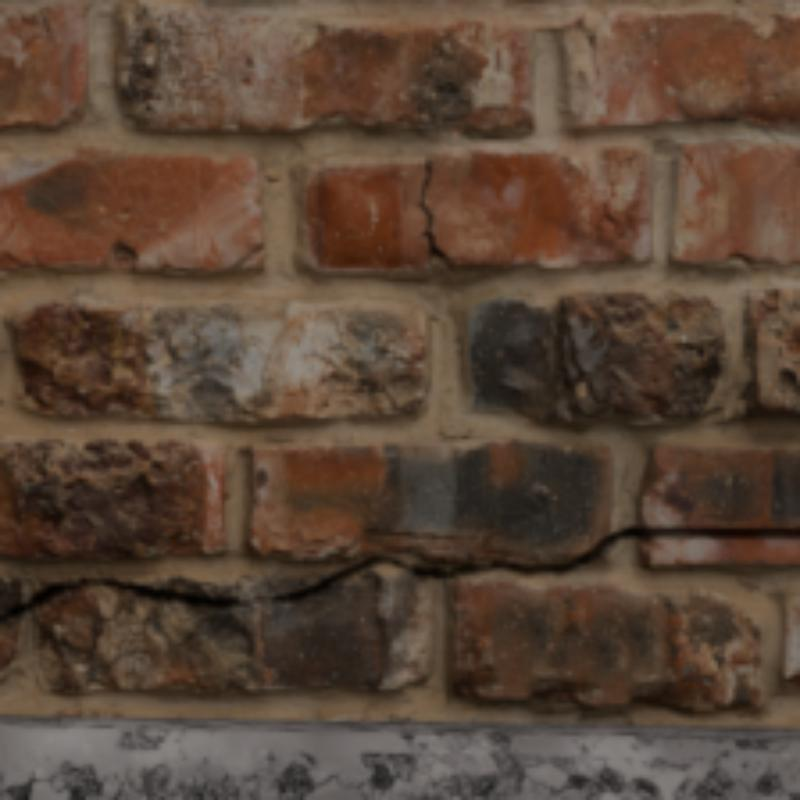pothole: (250, 525, 796, 604), (0, 575, 250, 621), (421, 161, 450, 268)
